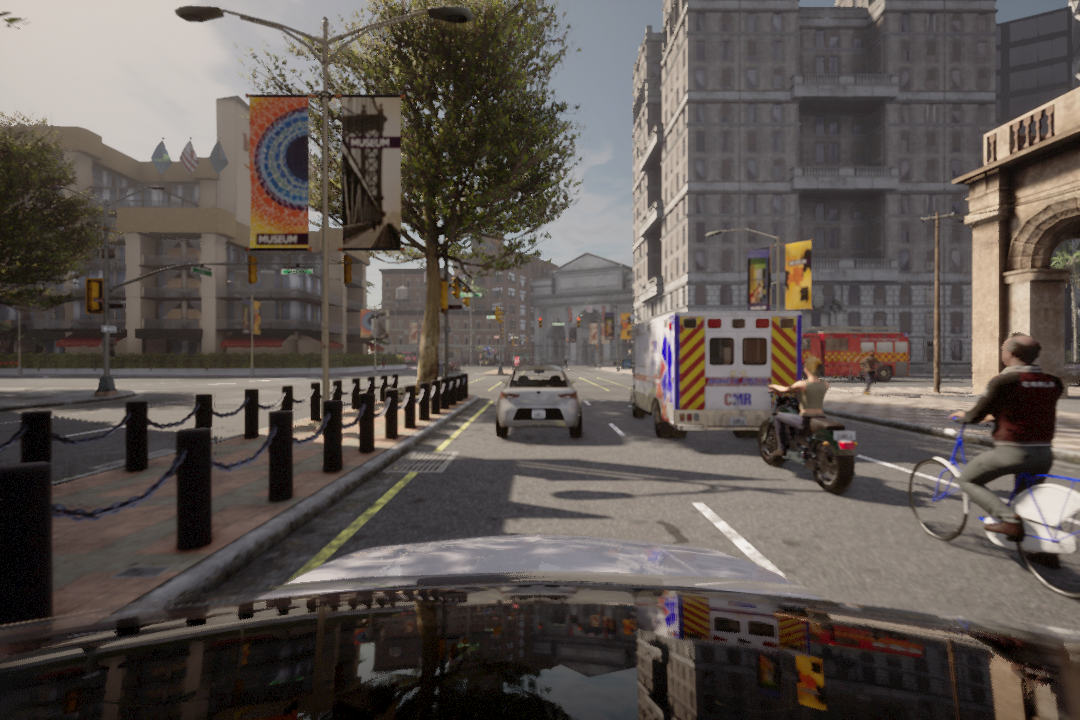TrafficLight: (575, 315, 580, 330), (537, 316, 542, 328)
